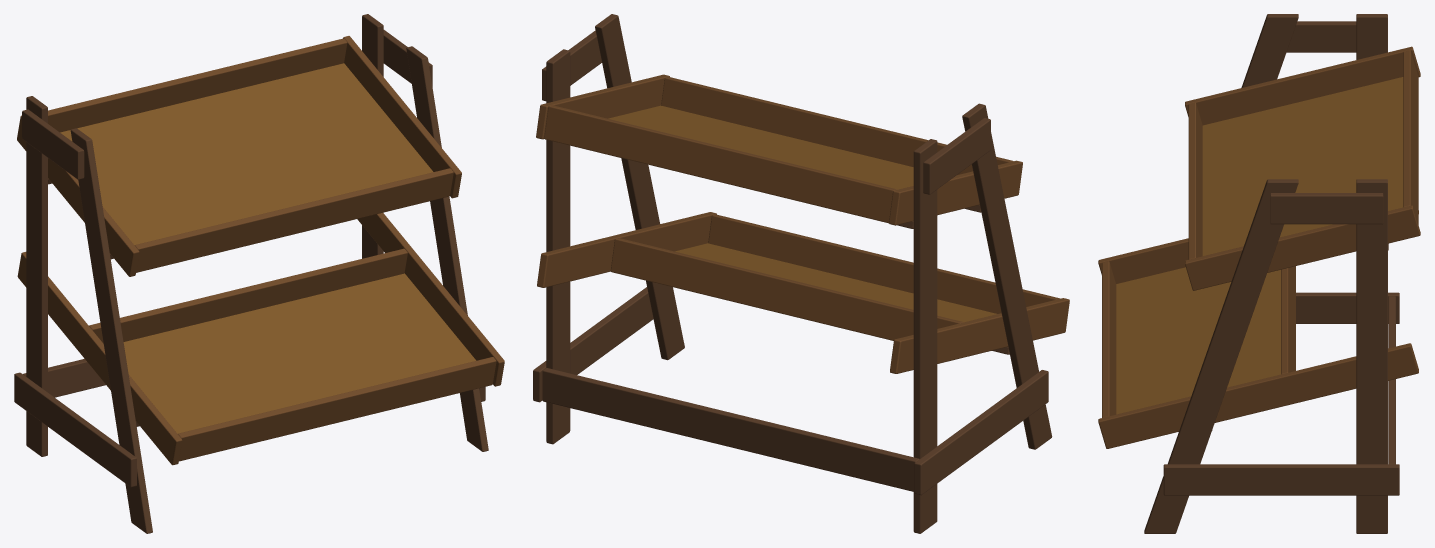
File: FoodStall.fbx
The picture shows the model from 3 angles, left to right: view 1: azimuth 30°, elevation 25°; view 2: azimuth 150°, elevation 25°; view 3: azimuth 270°, elevation 25°; orthographic projection. The views are drawn at different scales.
Visible parts, largest first — view 1: Cube; view 2: Cube; view 3: Cube.
Part boxes in pixels (bbox=[...]): Cube: bbox=[14, 14, 504, 533]; Cube: bbox=[533, 14, 1069, 533]; Cube: bbox=[1098, 14, 1420, 533].
Bounding box in the file's own units: 423 × 397 × 329.
